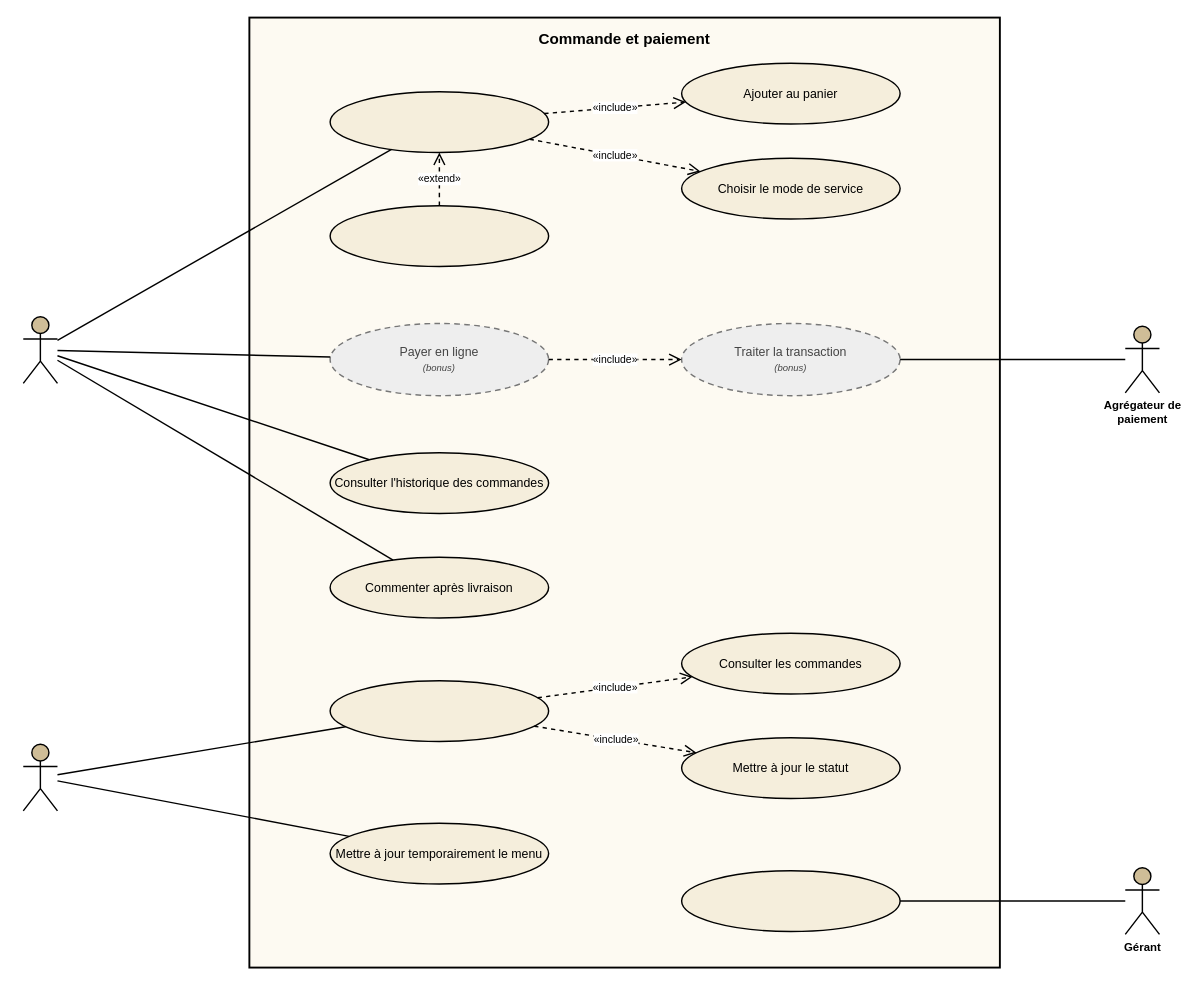
The diagram is 1198 pixels wide and 984 high, and some of its shapes have lost their labels. The shapes that lost their labels are listed below. From the top down, each one's centre as x and y in pixels, then its label:
At [439,122]: "Passer une commande".
At [439,236]: "Utiliser ses points de fidélité".
At [40,350]: "Étudiant".
At [439,711]: "Gérer les commandes".
At [40,777]: "Employé".
At [790,901]: "Superviser les commandes".
